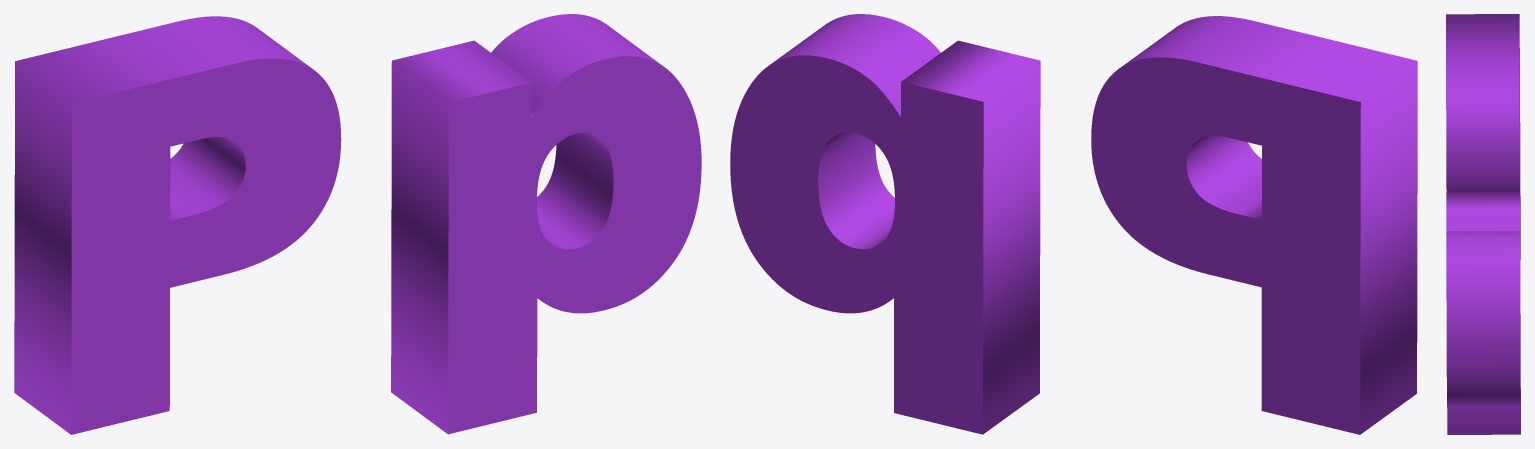
The model's file is letra p.fbx.
3 renders of one model, left to right at view 1: azimuth 30°, elevation 25°; view 2: azimuth 150°, elevation 25°; view 3: azimuth 270°, elevation 25°, orthographic. The views are drawn at different scales.
Visible parts, largest first — view 1: Text; view 2: Text; view 3: Text.
Part boxes in pixels (x1,y1,x2,y2): Text: (14,14,701,434); Text: (730,14,1417,434); Text: (1446,14,1520,434).
Size of the model in its own units: 102 by 65.75 by 16.27.
